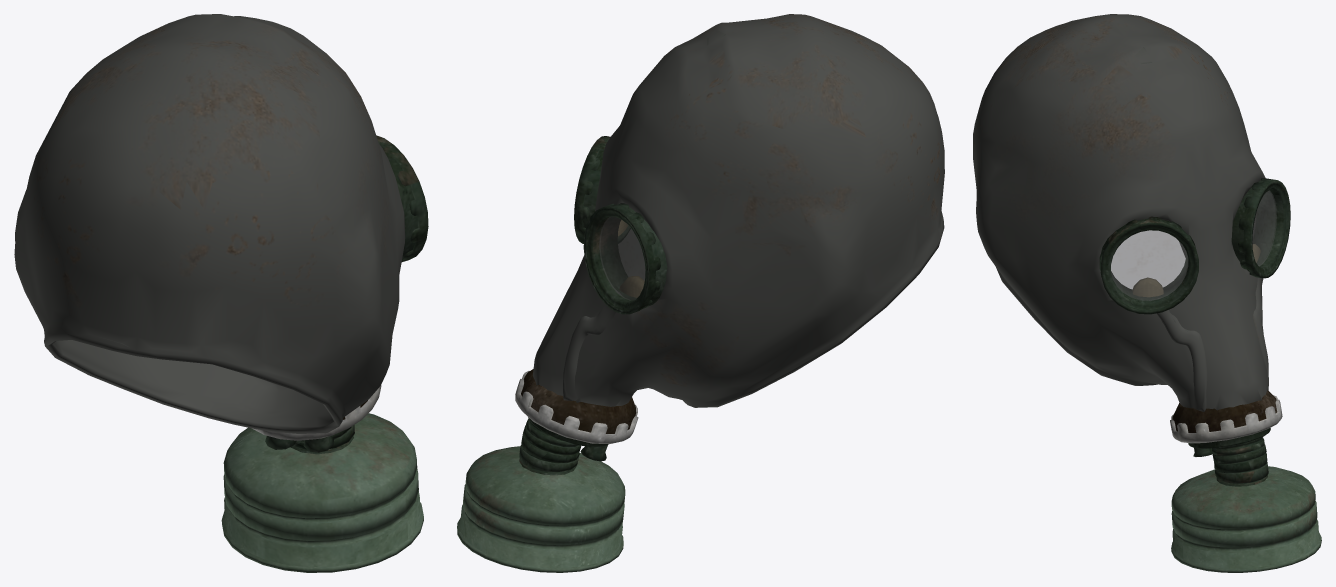
The model's file is protivogaz.fbx.
3 renders of one model, left to right at view 1: azimuth 30°, elevation 25°; view 2: azimuth 150°, elevation 25°; view 3: azimuth 270°, elevation 25°, orthographic. The views are drawn at different scales.
Parts seen in each view (by area): view 1: Окружность.013; view 2: Окружность.013, Окружность.002; view 3: Окружность.013, Окружность.002.
Boxes of the visible parts, x1,y1,x2,y2 form: Окружность.013: (14, 14, 428, 572); Окружность.013: (457, 14, 944, 572); Окружность.002: (599, 216, 645, 300); Окружность.013: (973, 14, 1321, 572); Окружность.002: (1111, 190, 1276, 300).
Bounding box in the file's own units: 817 × 1043 × 727.
